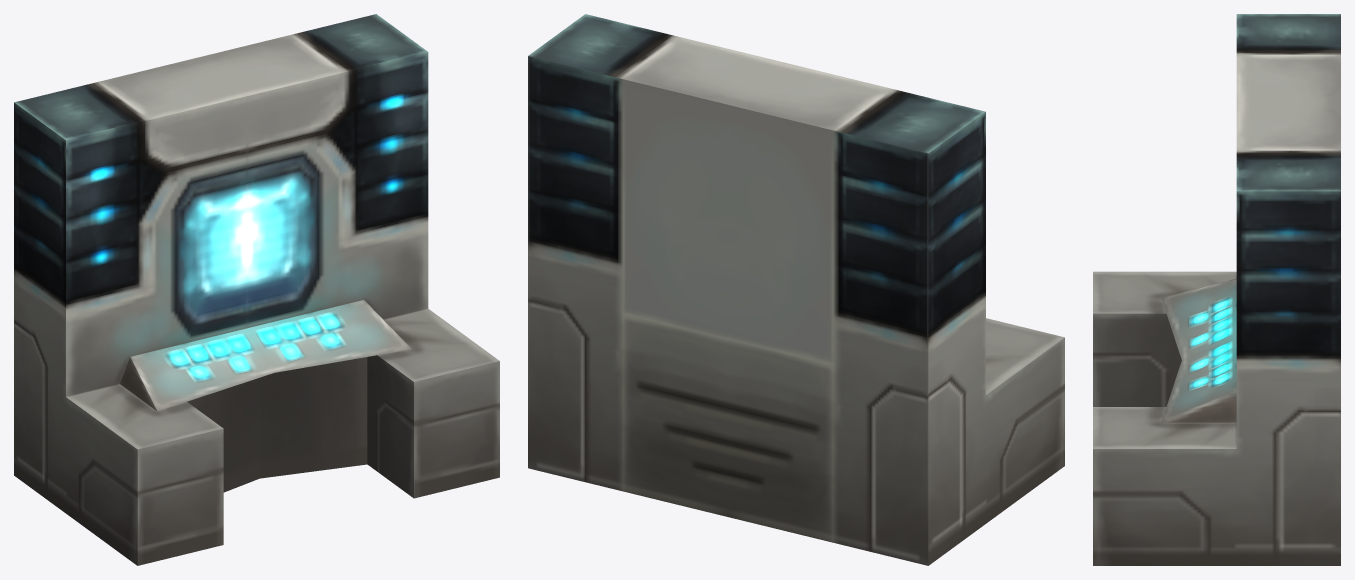
The model's file is Old_Computer.fbx.
3 views of the same model, side by side, from view 1: azimuth 30°, elevation 25°; view 2: azimuth 150°, elevation 25°; view 3: azimuth 270°, elevation 25° (orthographic). The views are drawn at different scales.
Parts seen in each view (by area): view 1: Old_Computer; view 2: Old_Computer; view 3: Old_Computer.
Boxes of the visible parts, x1,y1,x2,y2 form: Old_Computer: (14,14,499,565); Old_Computer: (528,14,1064,565); Old_Computer: (1093,14,1340,565).
Bounding box in the file's own units: 1.39 × 1.37 × 0.8216.
